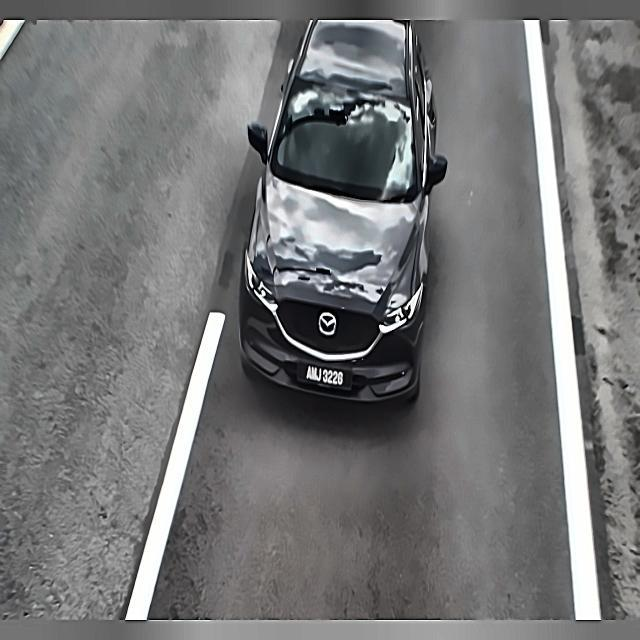car: (296, 356, 352, 394)
